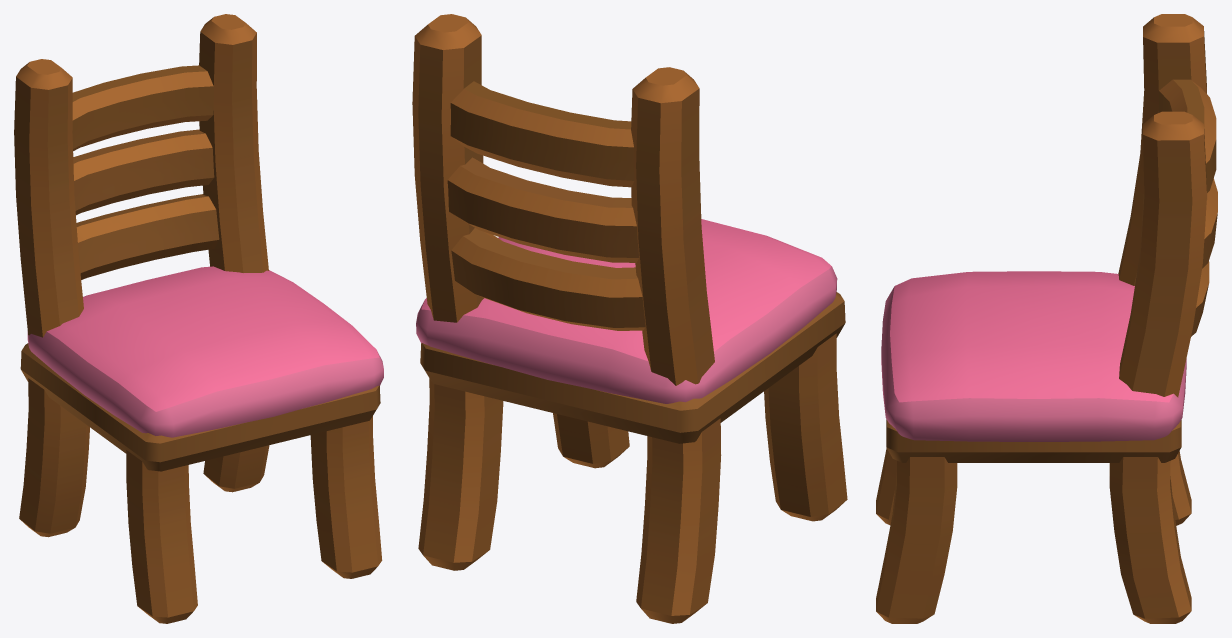
File: Chair_1_E.glb
The picture shows the model from 3 angles, left to right: view 1: azimuth 30°, elevation 25°; view 2: azimuth 150°, elevation 25°; view 3: azimuth 270°, elevation 25°; orthographic projection. The views are drawn at different scales.
Visible parts, largest first — view 1: Chair_1_E; view 2: Chair_1_E; view 3: Chair_1_E.
Part boxes in pixels (<box>): Chair_1_E: <box>14,14,383,623</box>; Chair_1_E: <box>412,14,847,623</box>; Chair_1_E: <box>876,14,1217,623</box>.
Size of the model in its own units: 0.5906 by 1.04 by 0.6445.
Materials: 1 (1 with a texture image).
